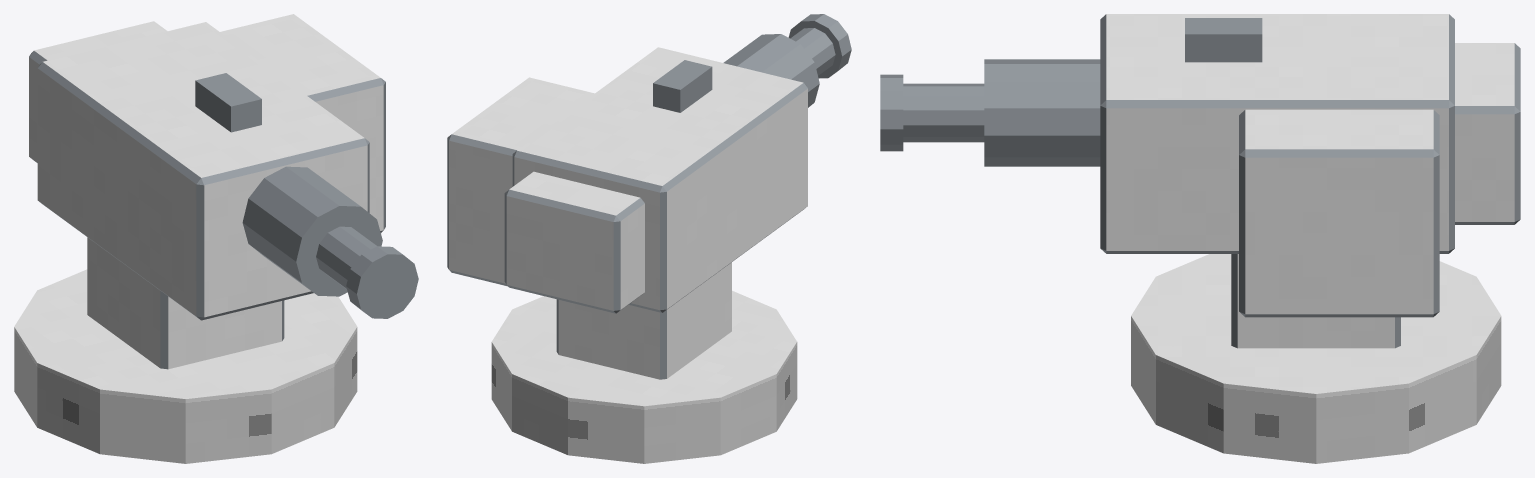
3 views of the same model, side by side, from view 1: azimuth 30°, elevation 25°; view 2: azimuth 150°, elevation 25°; view 3: azimuth 270°, elevation 25° (orthographic). The views are drawn at different scales.
Parts seen in each view (by area): view 1: machine-gun; view 2: machine-gun; view 3: machine-gun.
Part boxes in pixels (x1=…): machine-gun: x1=14, y1=14, x2=418, y2=463; machine-gun: x1=447, y1=14, x2=851, y2=463; machine-gun: x1=880, y1=14, x2=1520, y2=463.
Bounding box in the file's own units: 0.255 × 0.257 × 0.415.
Materials: 2 (1 with a texture image).
